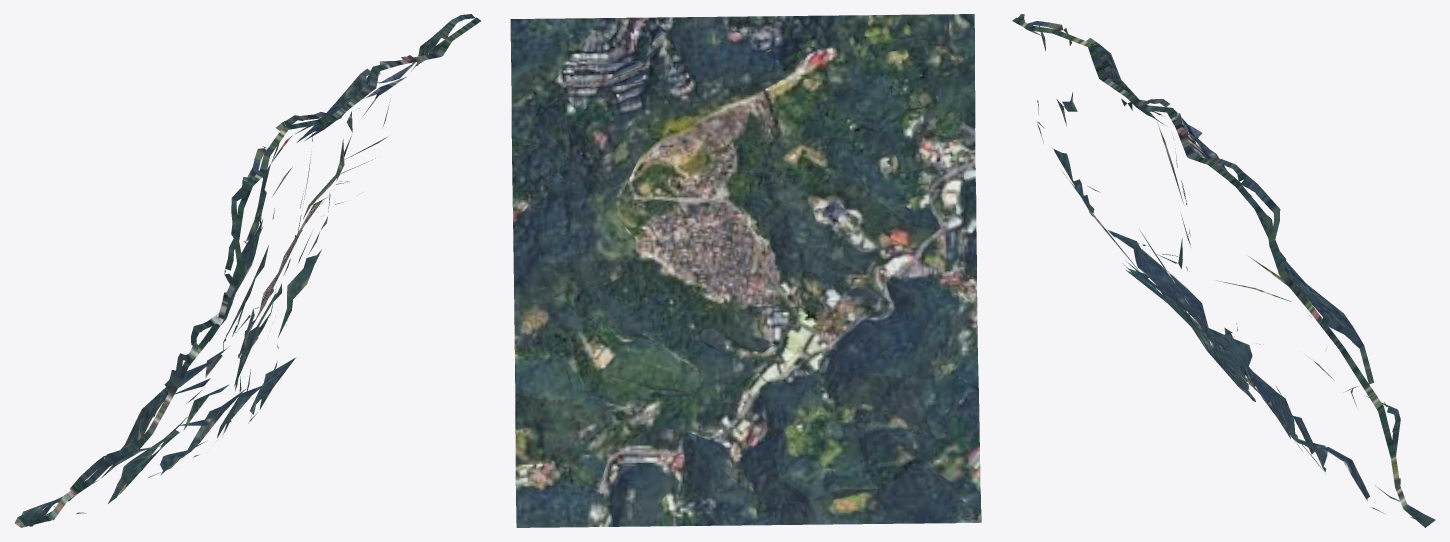
3 renders of one model, left to right at view 1: azimuth 30°, elevation 25°; view 2: azimuth 150°, elevation 25°; view 3: azimuth 270°, elevation 25°, orthographic. The views are drawn at different scales.
Size of the model in its own units: 1299 by 1152 by 1064.
2 materials, 2 textured.
